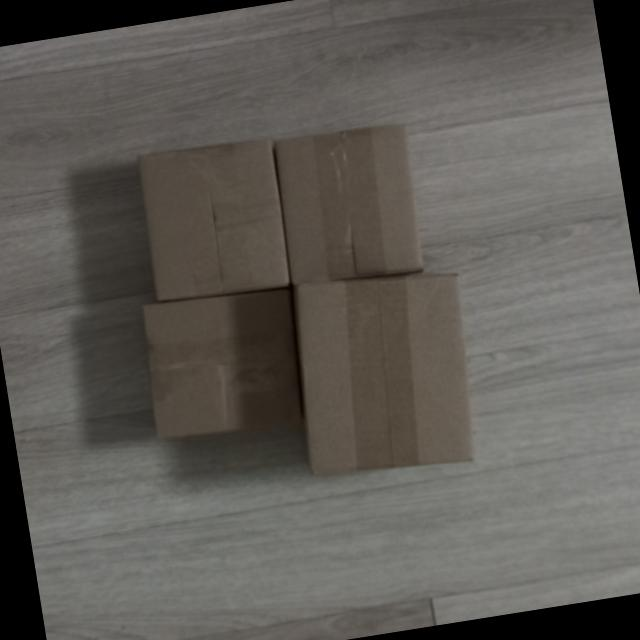box: (275, 255, 492, 492), (132, 276, 312, 449), (130, 128, 298, 312), (270, 115, 433, 295)
